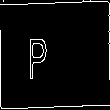P_N: (45, 29, 65, 81)
